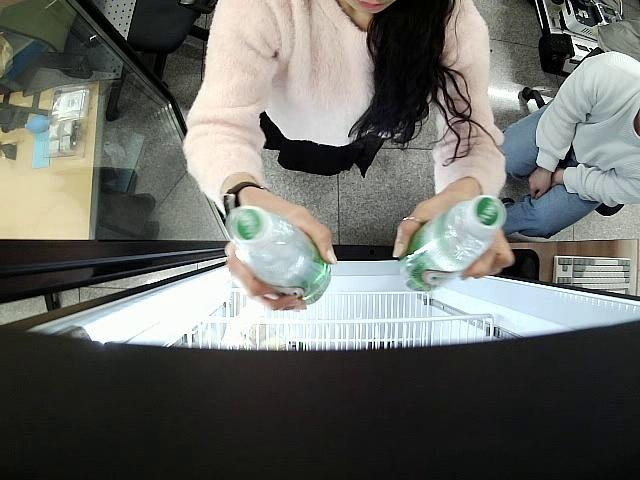18_trevi: (225, 206, 332, 308), (398, 197, 503, 292)
